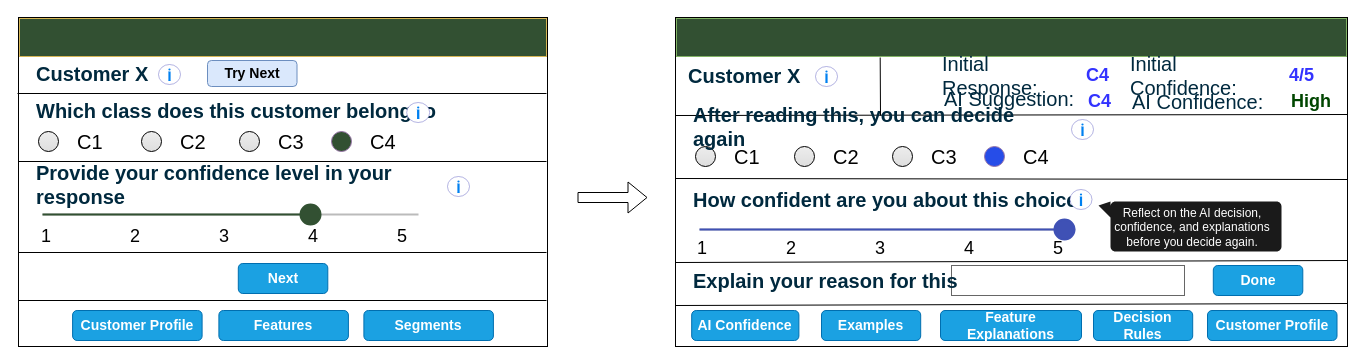
Image size: 1366x364. Some labels were removed from this diagram. The shapes that lost their labels are listed below. From the top down, each one's box as (x1, y1, x2, y2) in pixels, then its label:
(18, 18, 546, 56): Example 1/5 - Step 1
(676, 18, 1346, 56): Example 1/5 - Step 2
(950, 264, 1184, 296): Text
